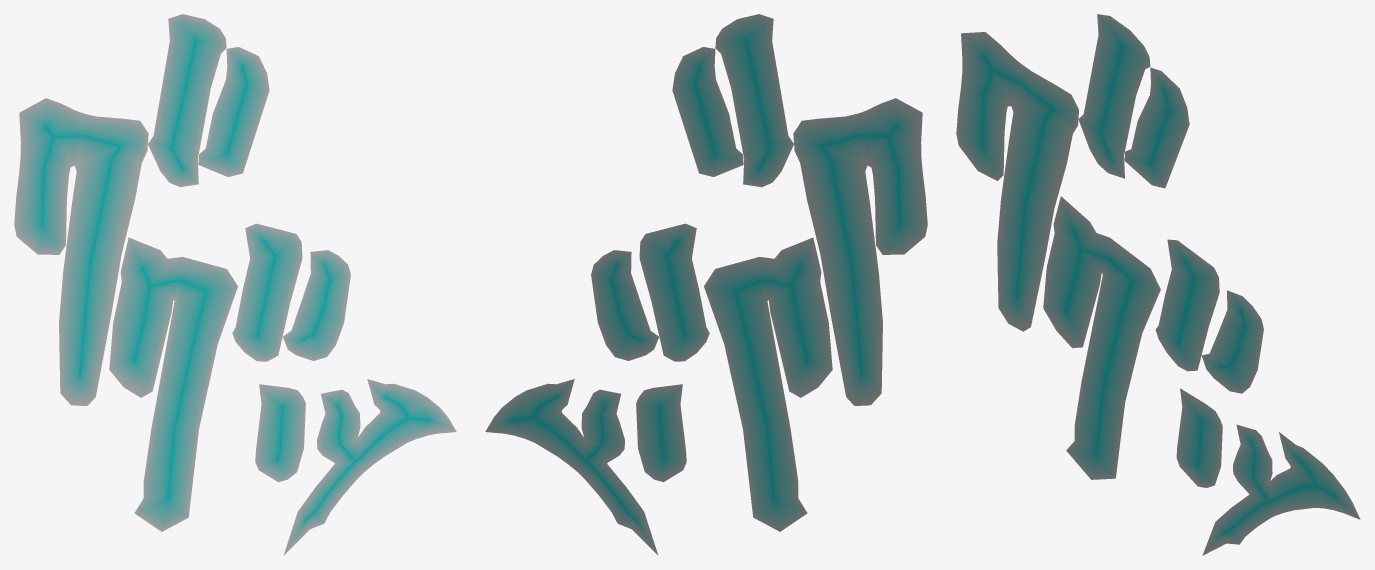
Rendered from SM_EFF_Text_D41NJ2_01.glb.
3 views of the same model, side by side, from view 1: azimuth 30°, elevation 25°; view 2: azimuth 150°, elevation 25°; view 3: azimuth 330°, elevation 25° (orthographic). The views are drawn at different scales.
Visible parts, largest first — view 1: SM_EFF_Text_D41NJ2_01; view 2: SM_EFF_Text_D41NJ2_01; view 3: SM_EFF_Text_D41NJ2_01.
Part boxes in pixels (x1,y1,x2,y2): SM_EFF_Text_D41NJ2_01: (14, 14, 456, 555); SM_EFF_Text_D41NJ2_01: (485, 14, 927, 555); SM_EFF_Text_D41NJ2_01: (956, 14, 1360, 555).
Size of the model in its own units: 0.6927 by 0.8472 by 5.19e-17.
